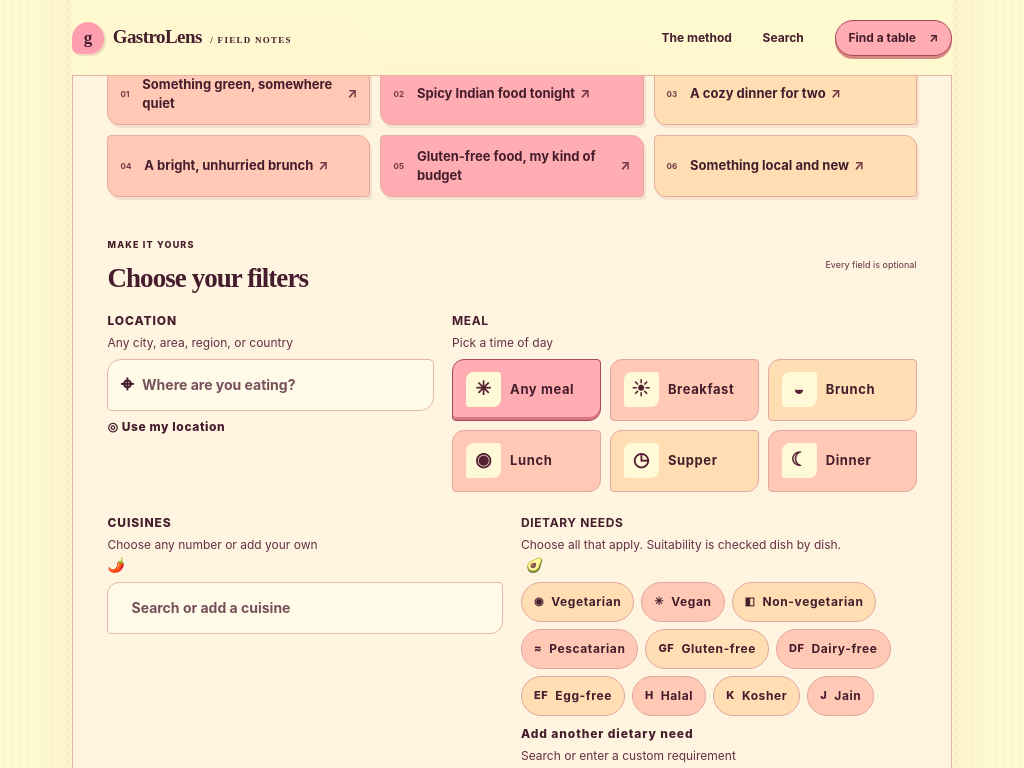
it: restaurant search experience › clears entered criteria from the filter controls
(page scrolled)
Type "Kyoto" into the field labelled "LOCATION" at (282, 385), box [142,366,421,403]
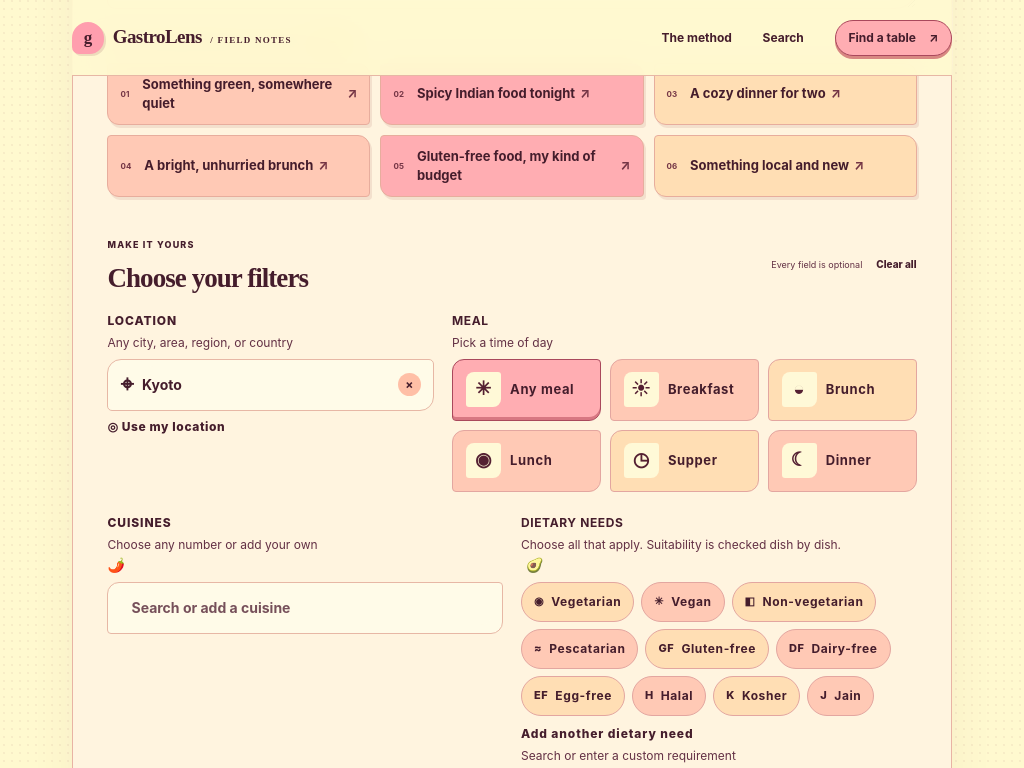
Click the button "Clear all" at (896, 264), box [876,254,916,275]
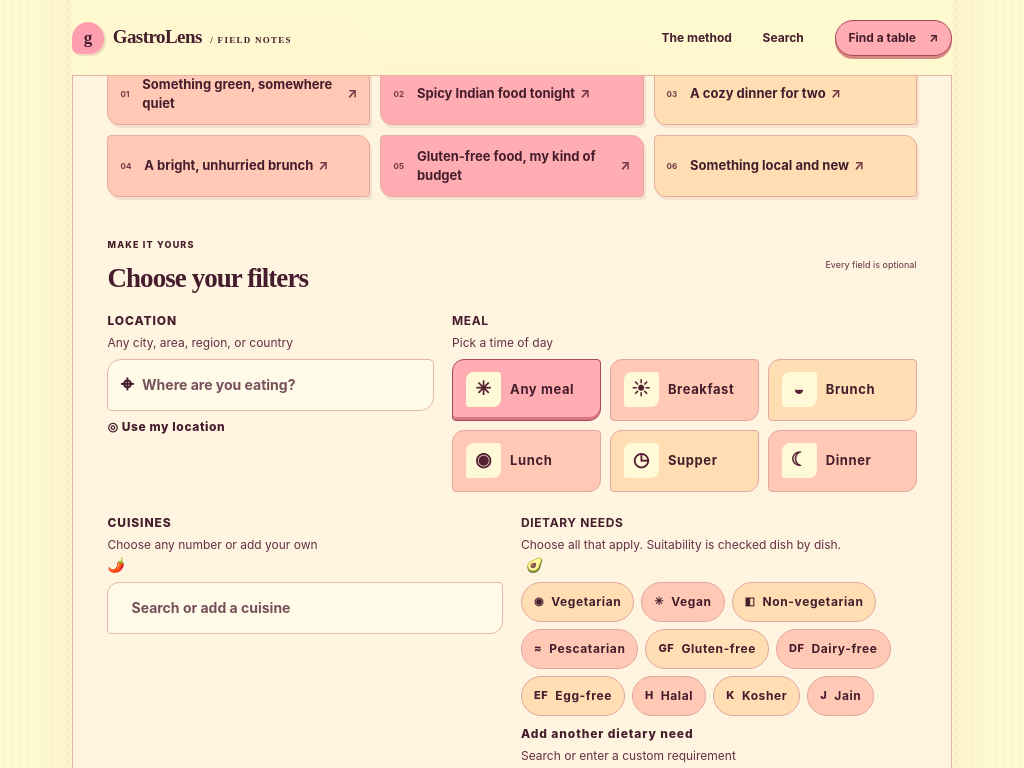
Result: the field labelled "LOCATION" is empty at [142,366,421,403]
Result: the button "Clear all" is gone
